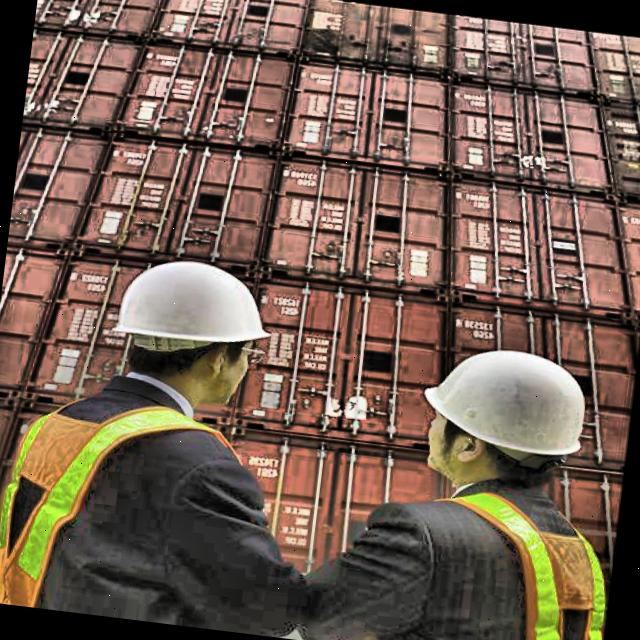helmet: (386, 328, 616, 520), (84, 240, 296, 422)
